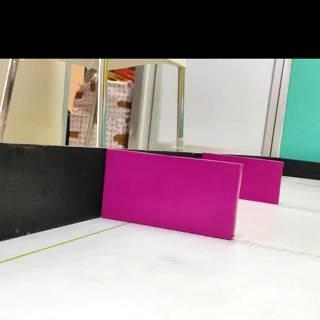xparking: (102, 148, 242, 240), (240, 158, 283, 204)
